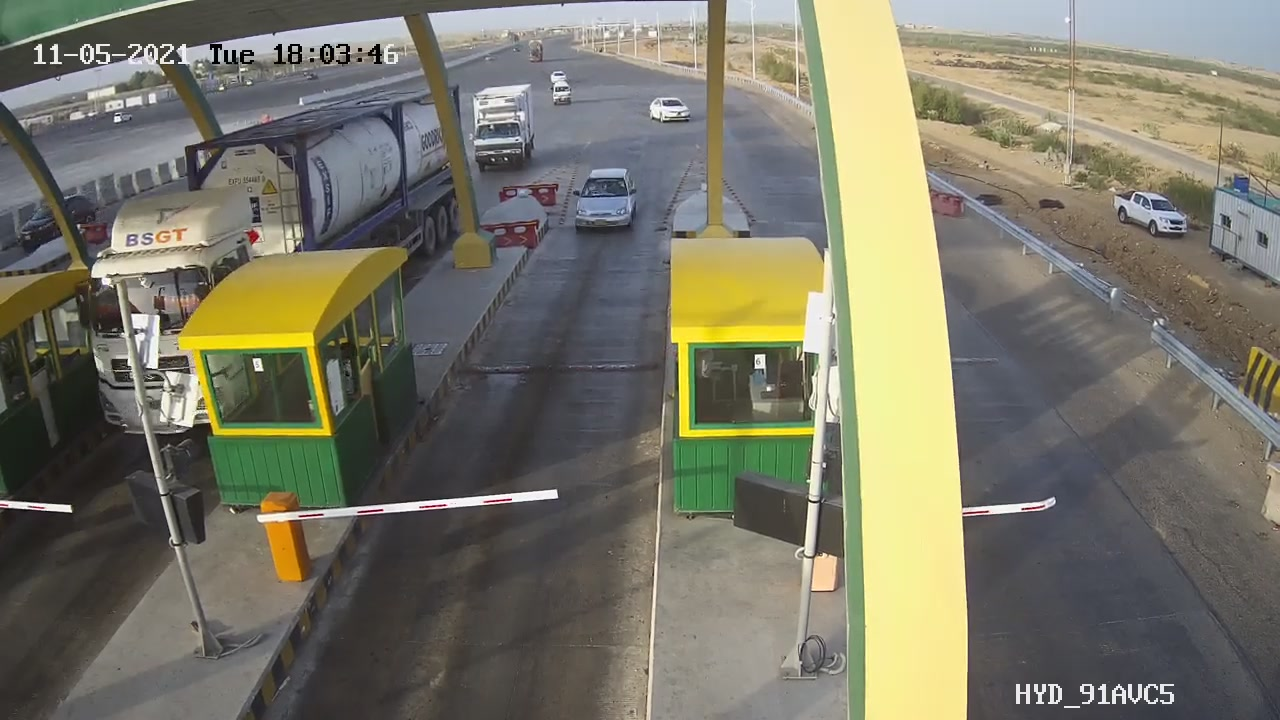F1: (557, 155, 659, 251)
